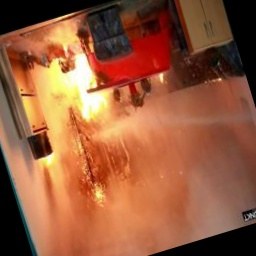fire: (30, 25, 125, 146)
